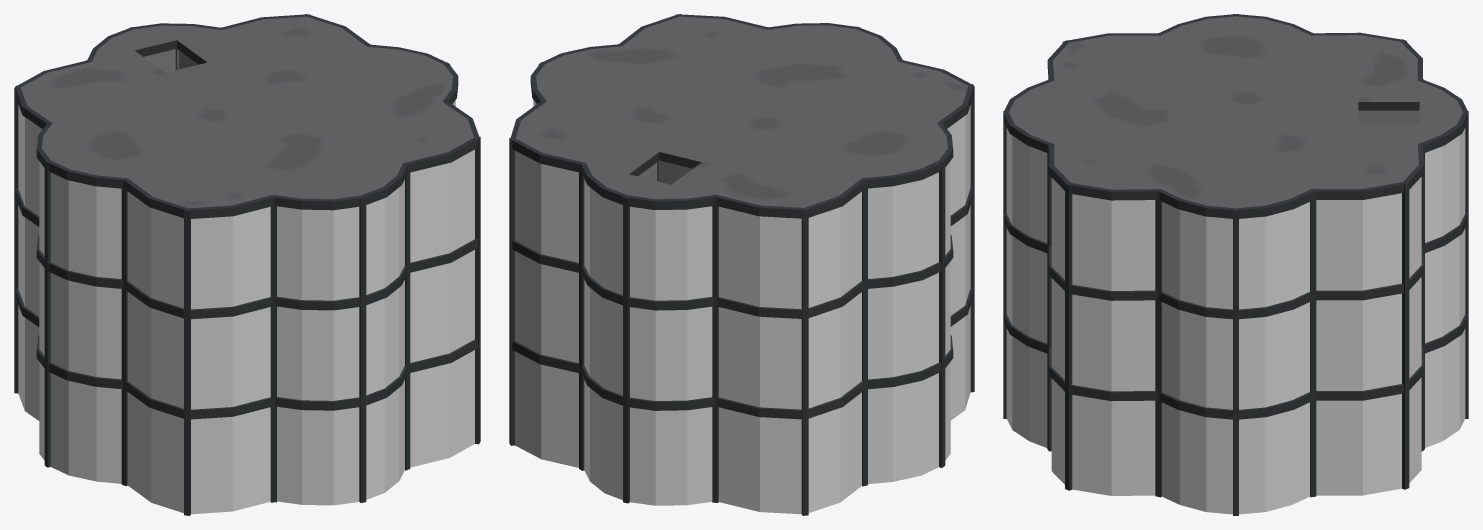
File: SM_Bldg_City_High-Rise_Modern_01_Mid.fbx
3 views of the same model, side by side, from view 1: azimuth 30°, elevation 25°; view 2: azimuth 150°, elevation 25°; view 3: azimuth 270°, elevation 25° (orthographic).
Parts seen in each view (by area): view 1: SM_Bldg_City_High-Rise_Modern_01_Mid; view 2: SM_Bldg_City_High-Rise_Modern_01_Mid; view 3: SM_Bldg_City_High-Rise_Modern_01_Mid.
Boxes of the visible parts, bbox=[...] form: SM_Bldg_City_High-Rise_Modern_01_Mid: bbox=[14, 14, 480, 515]; SM_Bldg_City_High-Rise_Modern_01_Mid: bbox=[509, 14, 974, 515]; SM_Bldg_City_High-Rise_Modern_01_Mid: bbox=[1003, 14, 1468, 515].
Bounding box in the file's own units: 1520 × 1100 × 1520.
